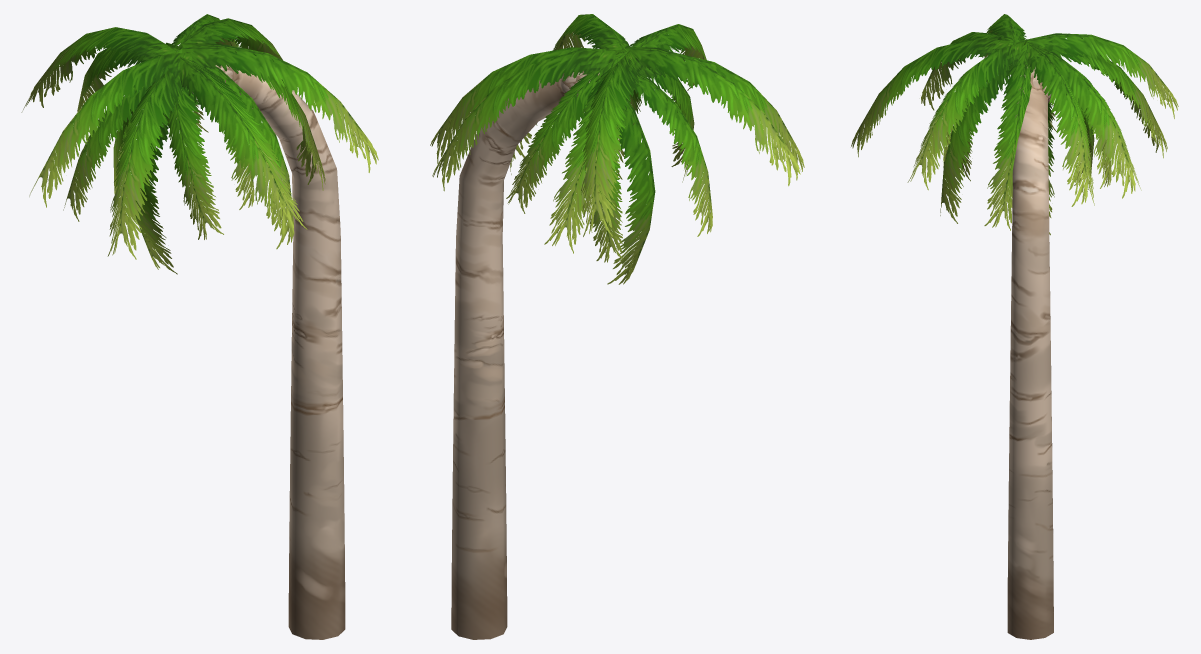
3 renders of one model, left to right at view 1: azimuth 30°, elevation 25°; view 2: azimuth 150°, elevation 25°; view 3: azimuth 270°, elevation 25°, orthographic. The views are drawn at different scales.
Parts seen in each view (by area): view 1: tree2; view 2: tree2; view 3: tree2.
Part boxes in pixels (<box>): tree2: <box>21,14,378,639</box>; tree2: <box>430,14,804,639</box>; tree2: <box>851,14,1178,639</box>.
Bounding box in the file's own units: 1.63 × 2.83 × 1.66.
Materials: 1 (1 with a texture image).
